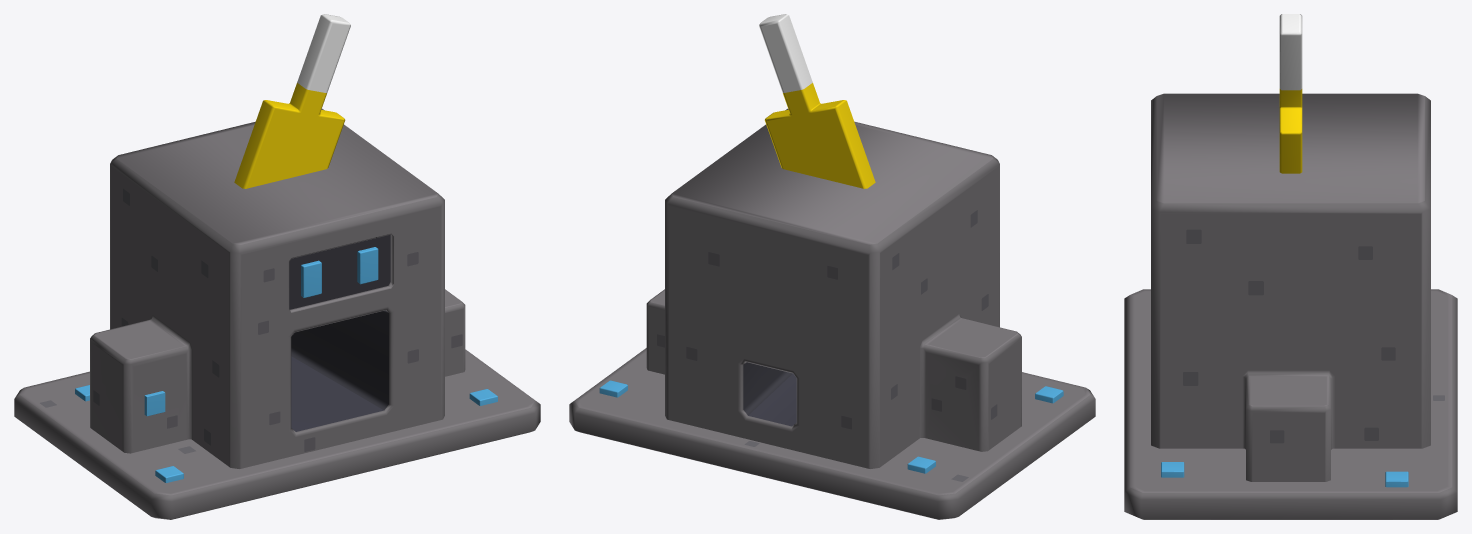
Rendered from model_shiny.obj.
3 renders of one model, left to right at view 1: azimuth 30°, elevation 25°; view 2: azimuth 150°, elevation 25°; view 3: azimuth 270°, elevation 25°, orthographic. The views are drawn at different scales.
Parts seen in each view (by area): view 1: 0769_sandygast_shiny; view 2: 0769_sandygast_shiny; view 3: 0769_sandygast_shiny.
Boxes of the visible parts, x1=… form: 0769_sandygast_shiny: x1=14, y1=14, x2=540, y2=519; 0769_sandygast_shiny: x1=569, y1=14, x2=1095, y2=519; 0769_sandygast_shiny: x1=1124, y1=14, x2=1457, y2=519.
Bounding box in the file's own units: 2.08 × 2.01 × 1.41.
1 material, 1 textured.
